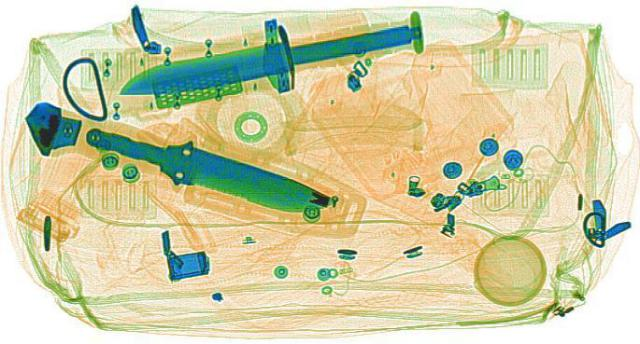Knife: (66, 117, 340, 217), (101, 17, 422, 102)
